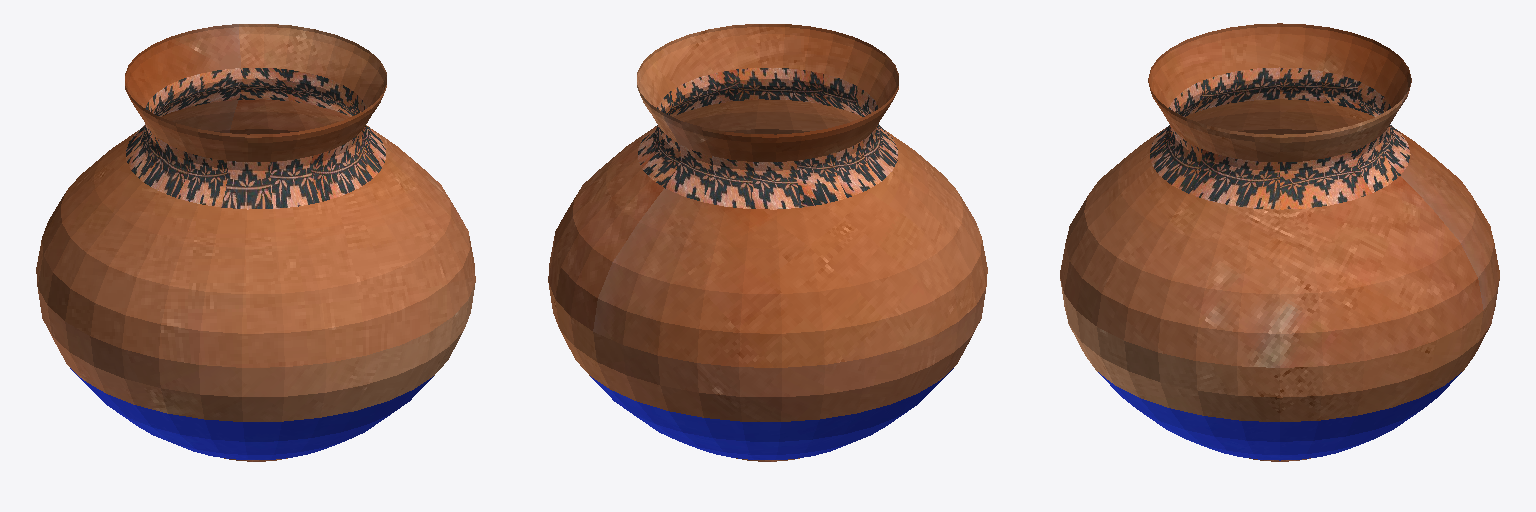
The picture shows the model from 3 angles: view 1: azimuth 30°, elevation 25°; view 2: azimuth 150°, elevation 25°; view 3: azimuth 270°, elevation 25°; orthographic projection.
Visible parts, largest first — view 1: Circle; view 2: Circle; view 3: Circle.
Part boxes in pixels (x1,y1,x2,y2): Circle: (36, 24, 475, 461); Circle: (548, 24, 987, 461); Circle: (1060, 23, 1499, 461).
Size of the model in its own units: 0.948 by 0.84 by 0.948.
3 materials, 3 textured.